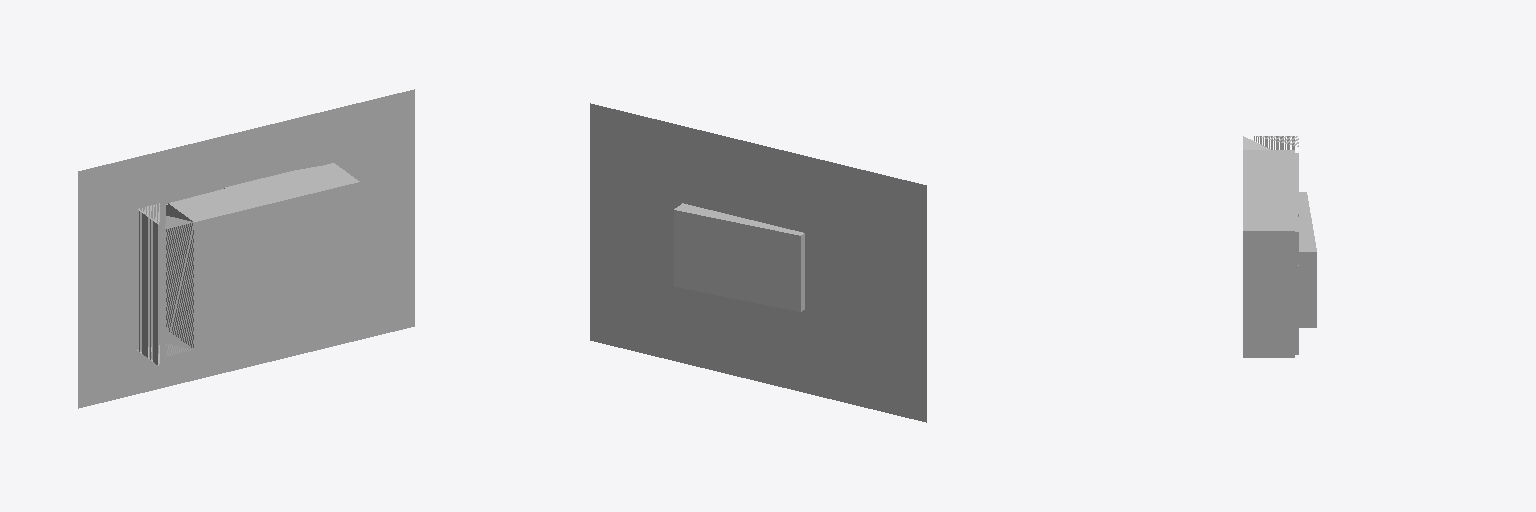
3 views of the same model, side by side, from view 1: azimuth 30°, elevation 25°; view 2: azimuth 150°, elevation 25°; view 3: azimuth 270°, elevation 25° (orthographic).
Visible parts, largest first — view 1: OutsideGround_20, OutsideFacade_30, GenericCeiling_70, Glazing_DoublePane_LowE_Argon_65, GenericFloor_20, GenericInteriorWall_50; view 2: OutsideGround_20, GenericFloor_20, Water_Surface, OutsideFacade_30; view 3: OutsideFacade_30, Water_Surface, Glazing_DoublePane_LowE_Argon_65.
Boxes of the visible parts, x1,y1,x2,y2 form: OutsideGround_20: [78, 89, 414, 408]; OutsideFacade_30: [137, 163, 359, 365]; GenericCeiling_70: [194, 182, 359, 348]; Glazing_DoublePane_LowE_Argon_65: [166, 172, 352, 329]; GenericFloor_20: [137, 162, 329, 349]; GenericInteriorWall_50: [166, 161, 341, 346]; OutsideGround_20: [590, 103, 926, 422]; GenericFloor_20: [673, 176, 867, 363]; Water_Surface: [674, 203, 804, 311]; OutsideFacade_30: [673, 184, 838, 326]; OutsideFacade_30: [1243, 136, 1298, 357]; Water_Surface: [1299, 192, 1316, 327]; Glazing_DoublePane_LowE_Argon_65: [1268, 153, 1298, 354].
Bounding box in the file's own units: 69.2 × 46.49 × 13.2.